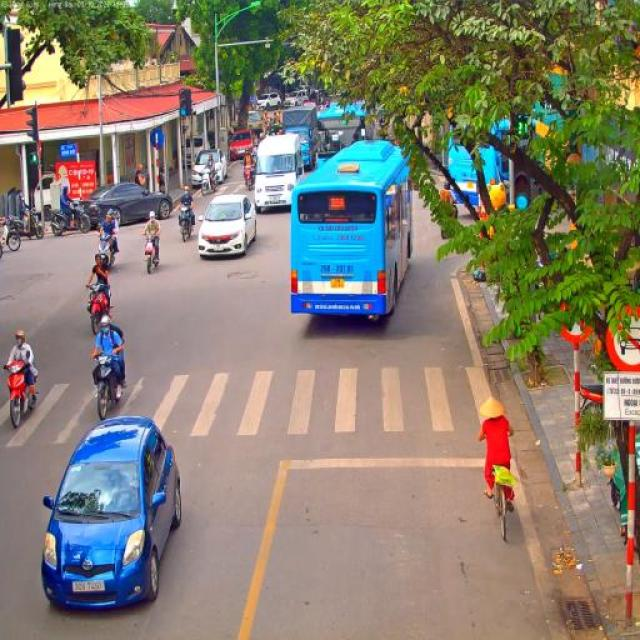bus: (290, 138, 416, 322), (509, 98, 583, 211), (446, 115, 512, 213), (253, 132, 304, 212), (315, 100, 367, 164)
car: (39, 416, 182, 610), (76, 182, 172, 228), (198, 192, 258, 258), (191, 148, 228, 190), (228, 130, 256, 161), (256, 91, 282, 111), (283, 89, 308, 107)
motorcycle: (4, 351, 38, 428), (88, 350, 124, 420), (48, 200, 92, 236), (86, 283, 114, 335), (20, 204, 46, 240), (140, 231, 160, 274), (95, 231, 116, 270), (576, 385, 603, 413), (0, 216, 21, 250), (178, 203, 194, 242), (200, 170, 220, 196), (243, 164, 256, 192)
truck: (281, 104, 319, 172), (245, 110, 264, 145)
